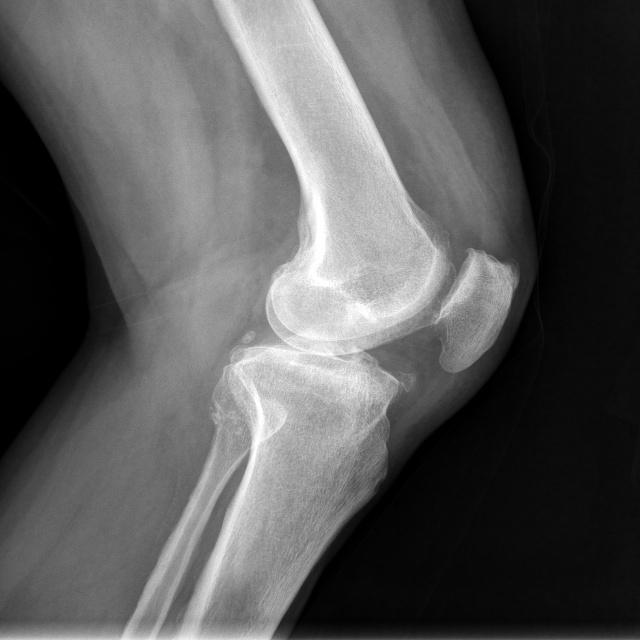Knee: (209, 239, 518, 438)
